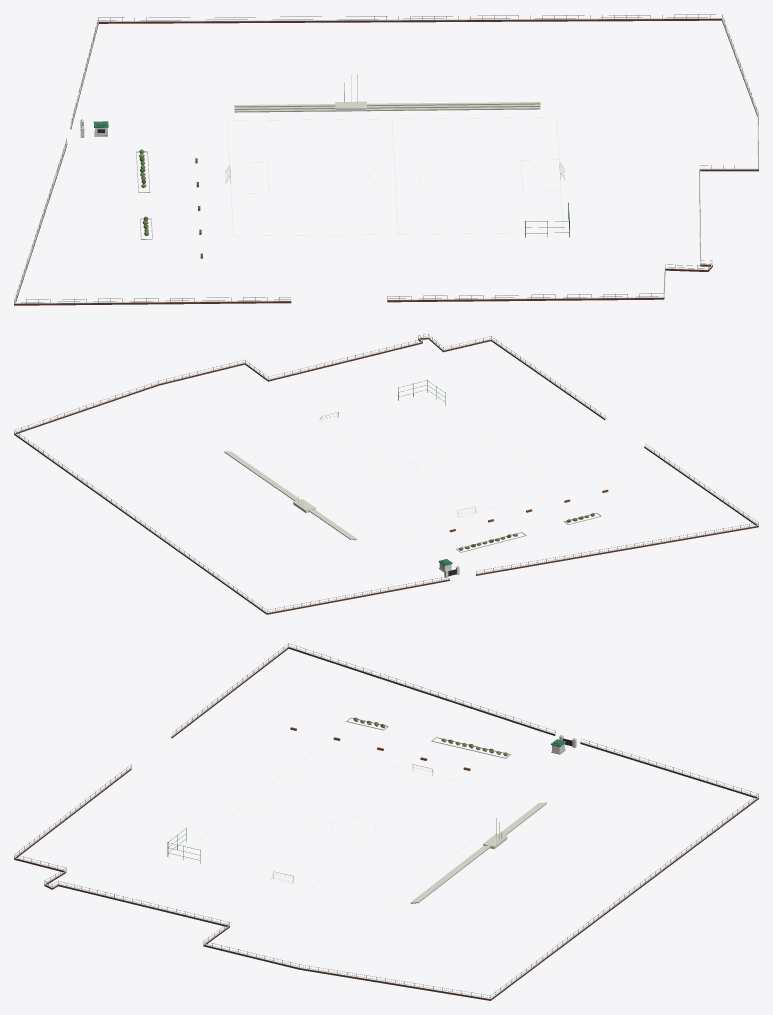
3 renders of one model, top to bottom at view 1: azimuth 30°, elevation 25°; view 2: azimuth 150°, elevation 25°; view 3: azimuth 270°, elevation 25°, orthographic. The views are drawn at different scales.
Visible parts, largest first — view 1: prop_boundary-fence, prop_stone-stand, prop_field-lines, prop_podium-canopy; view 2: prop_boundary-fence, prop_stone-stand; view 3: prop_boundary-fence, prop_stone-stand.
Boxes of the visible parts, x1,y1,x2,y2 form: prop_boundary-fence: [14, 14, 758, 305]; prop_stone-stand: [234, 102, 540, 112]; prop_field-lines: [227, 117, 563, 236]; prop_podium-canopy: [335, 74, 569, 237]; prop_boundary-fence: [14, 334, 758, 614]; prop_stone-stand: [224, 451, 357, 540]; prop_boundary-fence: [14, 643, 758, 1000]; prop_stone-stand: [410, 802, 546, 903].
Bounding box in the file's own units: 236 × 8.8 × 211.
